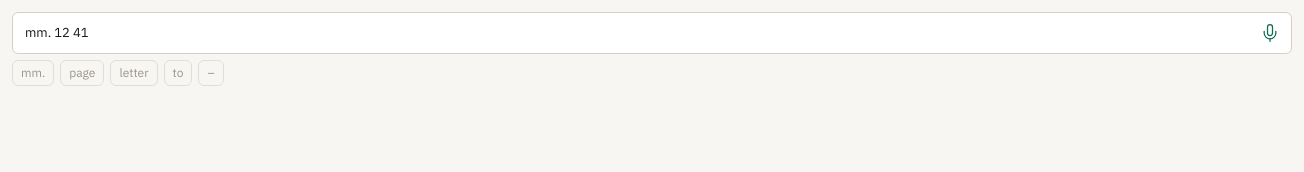
it: LocationInput › inserts mid-string at the caret rather than appending
The width and height of the screenshot is (1304, 172).
Click the button with aria-label "Insert “to”".
click(178, 72)  # box left=164, top=60, right=192, bottom=86
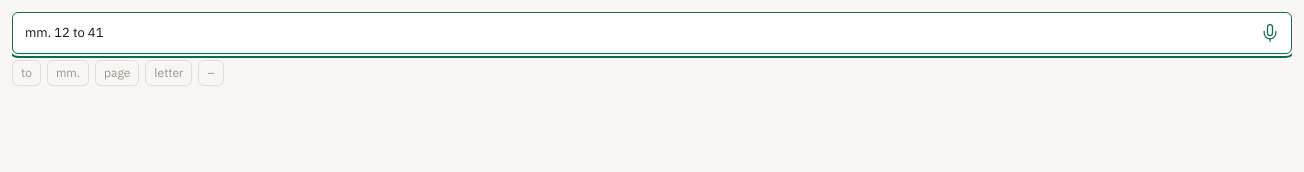
Expected: the field named "Location" holds "mm. 12 to 41", left=12, top=12, right=1292, bottom=54
